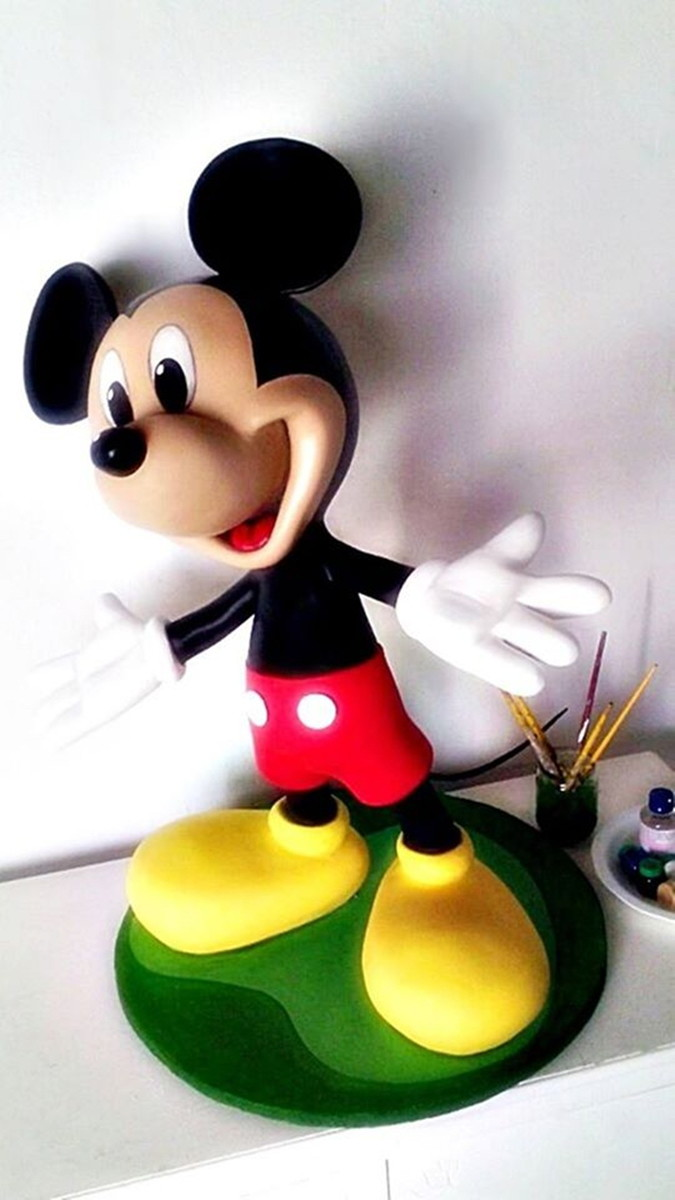Mickey: (12, 132, 368, 576)
